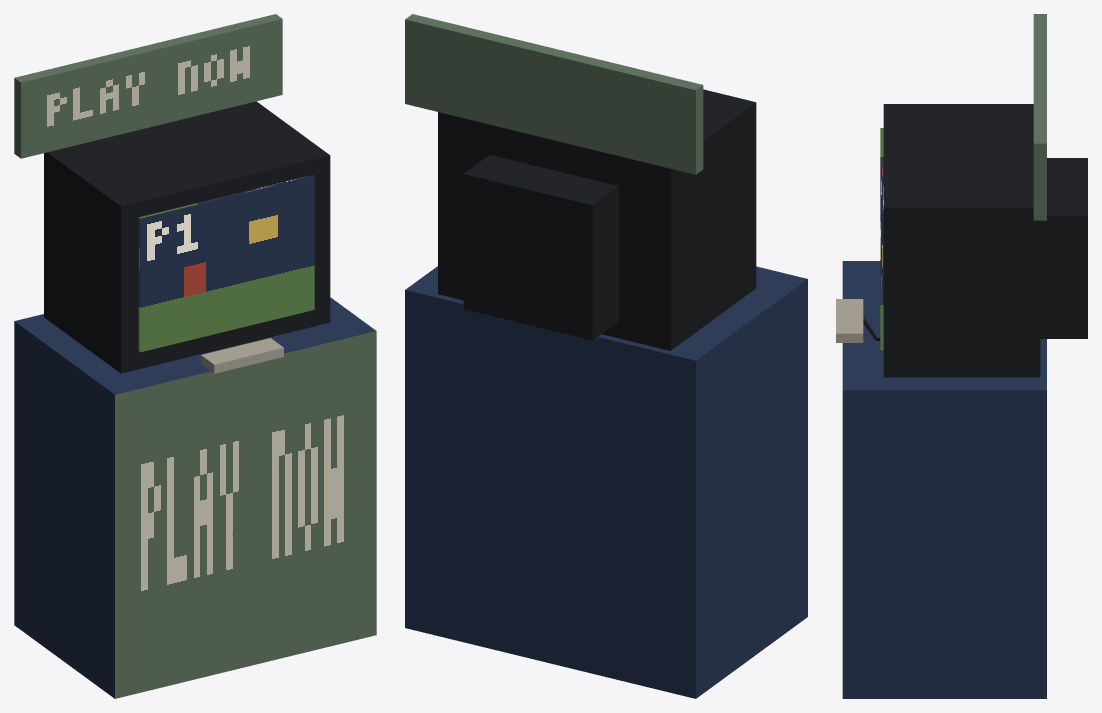
Rendered from COM_DemoStation.glb.
3 views of the same model, side by side, from view 1: azimuth 30°, elevation 25°; view 2: azimuth 150°, elevation 25°; view 3: azimuth 270°, elevation 25° (orthographic). The views are drawn at different scales.
Visible parts, largest first — view 1: COM_DemoStation_Mesh; view 2: COM_DemoStation_Mesh; view 3: COM_DemoStation_Mesh.
Boxes of the visible parts, bbox=[...] form: COM_DemoStation_Mesh: bbox=[14, 14, 376, 698]; COM_DemoStation_Mesh: bbox=[405, 14, 807, 698]; COM_DemoStation_Mesh: bbox=[836, 14, 1087, 698].
Size of what is drawn, in the model's own units: 0.9 by 1.8 by 0.74.
2 materials, 2 textured.
